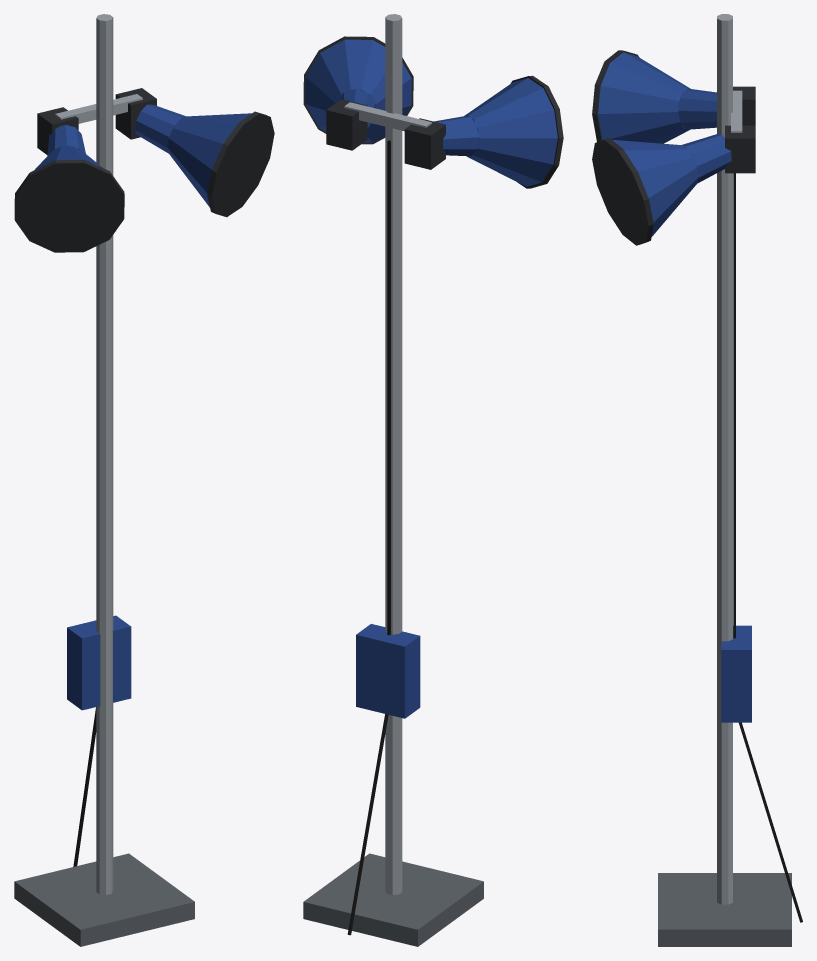
The model's file is pa_speaker.glb.
3 renders of one model, left to right at view 1: azimuth 30°, elevation 25°; view 2: azimuth 150°, elevation 25°; view 3: azimuth 270°, elevation 25°, orthographic.
Visible parts, largest first — view 1: Pole; view 2: Pole; view 3: Pole.
Part boxes in pixels (x1,y1,x2,y2): Pole: (14, 14, 274, 946); Pole: (303, 14, 563, 946); Pole: (592, 14, 802, 946).
Bounding box in the file's own units: 1.59 × 5.2 × 1.1.
